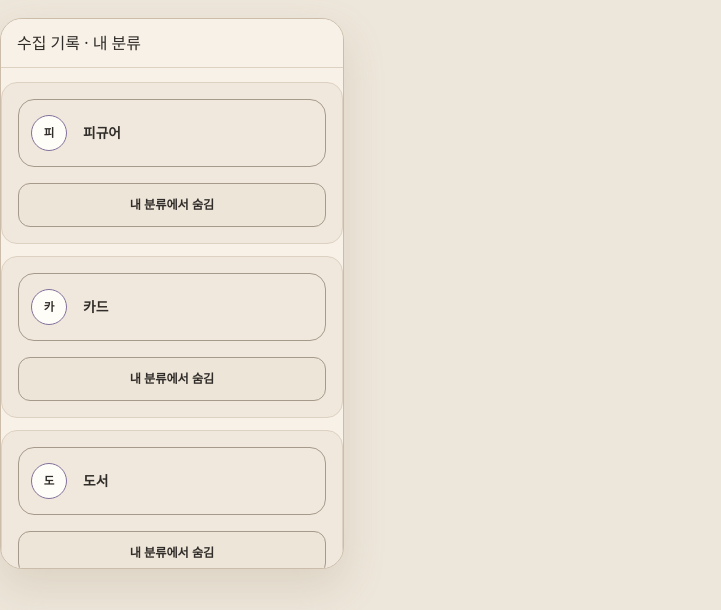
starts with kinds and loads only the selected server category
The image size is (721, 610).
Check: the heading "수집 기록 · 내 분류" is shown, box 17,32 -> 141,54
Click the button "도 도서" at [49, 480], box 18,446 -> 326,514
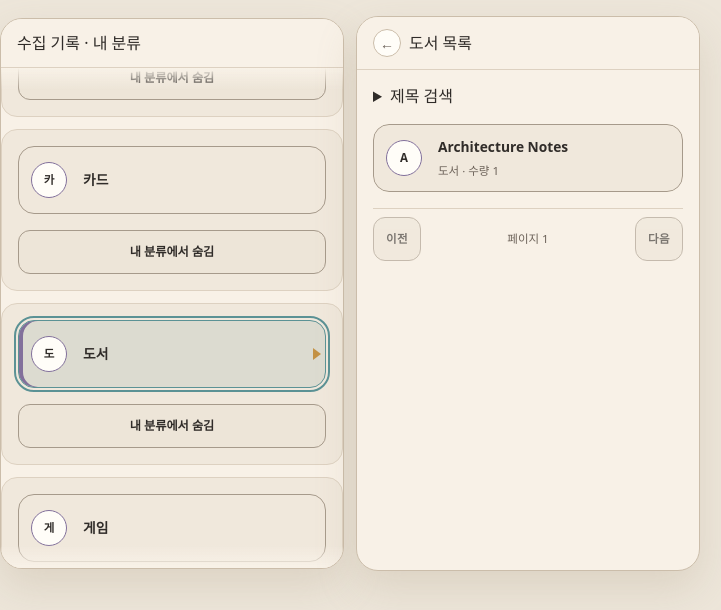
Check: the button "A Architecture Notes 도서 · 수량 1" is shown, box 373,124 -> 683,192
